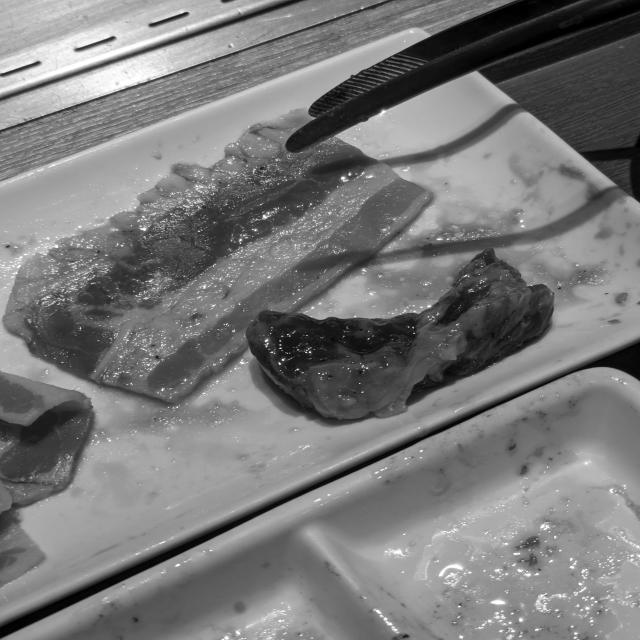NG raw beef,: (0, 92, 452, 419), (237, 244, 569, 430), (0, 362, 134, 525)
